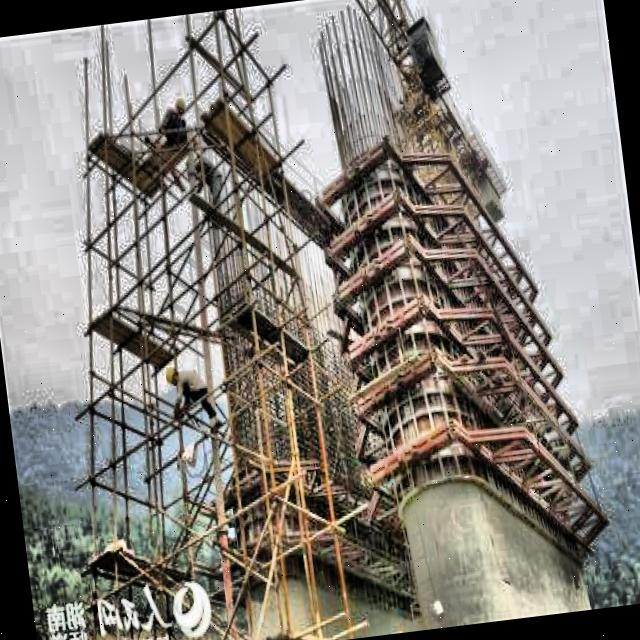helmet: (161, 356, 188, 391)
